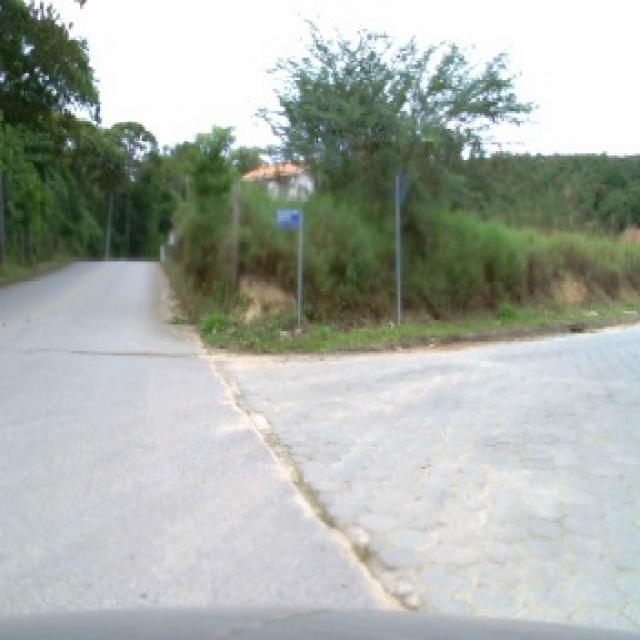Poth-hole: (222, 373, 424, 611), (62, 346, 182, 356), (567, 324, 582, 332)
